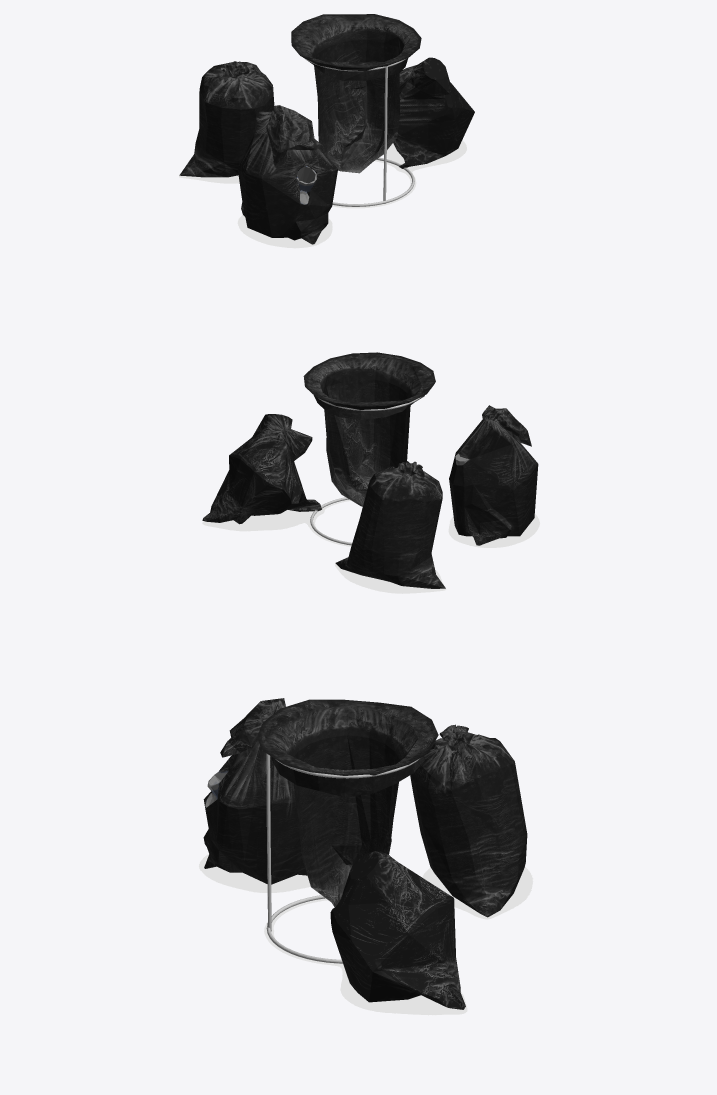
3 views of the same model, one above another, from view 1: azimuth 30°, elevation 25°; view 2: azimuth 150°, elevation 25°; view 3: azimuth 270°, elevation 25° (orthographic). The views are drawn at different scales.
Parts seen in each view (by area): view 1: Cylinder, Plane, Plane_002, Plane_004, Plane_003, BezierCircle; view 2: Cylinder, Plane, Plane_002, Plane_004, Plane_003, BezierCircle; view 3: Cylinder, Plane_002, Plane_004, Plane, Plane_003, BezierCircle.
Boxes of the visible parts, bbox=[...] form: Cylinder: bbox=[291, 14, 421, 173]; Plane: bbox=[238, 105, 337, 244]; Plane_002: bbox=[179, 61, 274, 177]; Plane_004: bbox=[393, 57, 474, 168]; Plane_003: bbox=[179, 140, 466, 248]; BezierCircle: bbox=[304, 58, 414, 206]; Cylinder: bbox=[303, 352, 435, 506]; Plane: bbox=[449, 405, 538, 545]; Plane_002: bbox=[335, 461, 445, 588]; Plane_004: bbox=[202, 414, 321, 524]; Plane_003: bbox=[202, 499, 539, 593]; BezierCircle: bbox=[310, 396, 422, 545]; Cylinder: bbox=[257, 699, 438, 906]; Plane_002: bbox=[410, 724, 527, 917]; Plane_004: bbox=[330, 851, 465, 1009]; Plane: bbox=[203, 698, 307, 884]; Plane_003: bbox=[199, 854, 533, 1015]; BezierCircle: bbox=[266, 753, 420, 963].
Size of the model in its own units: 1586 by 1586 by 504.
